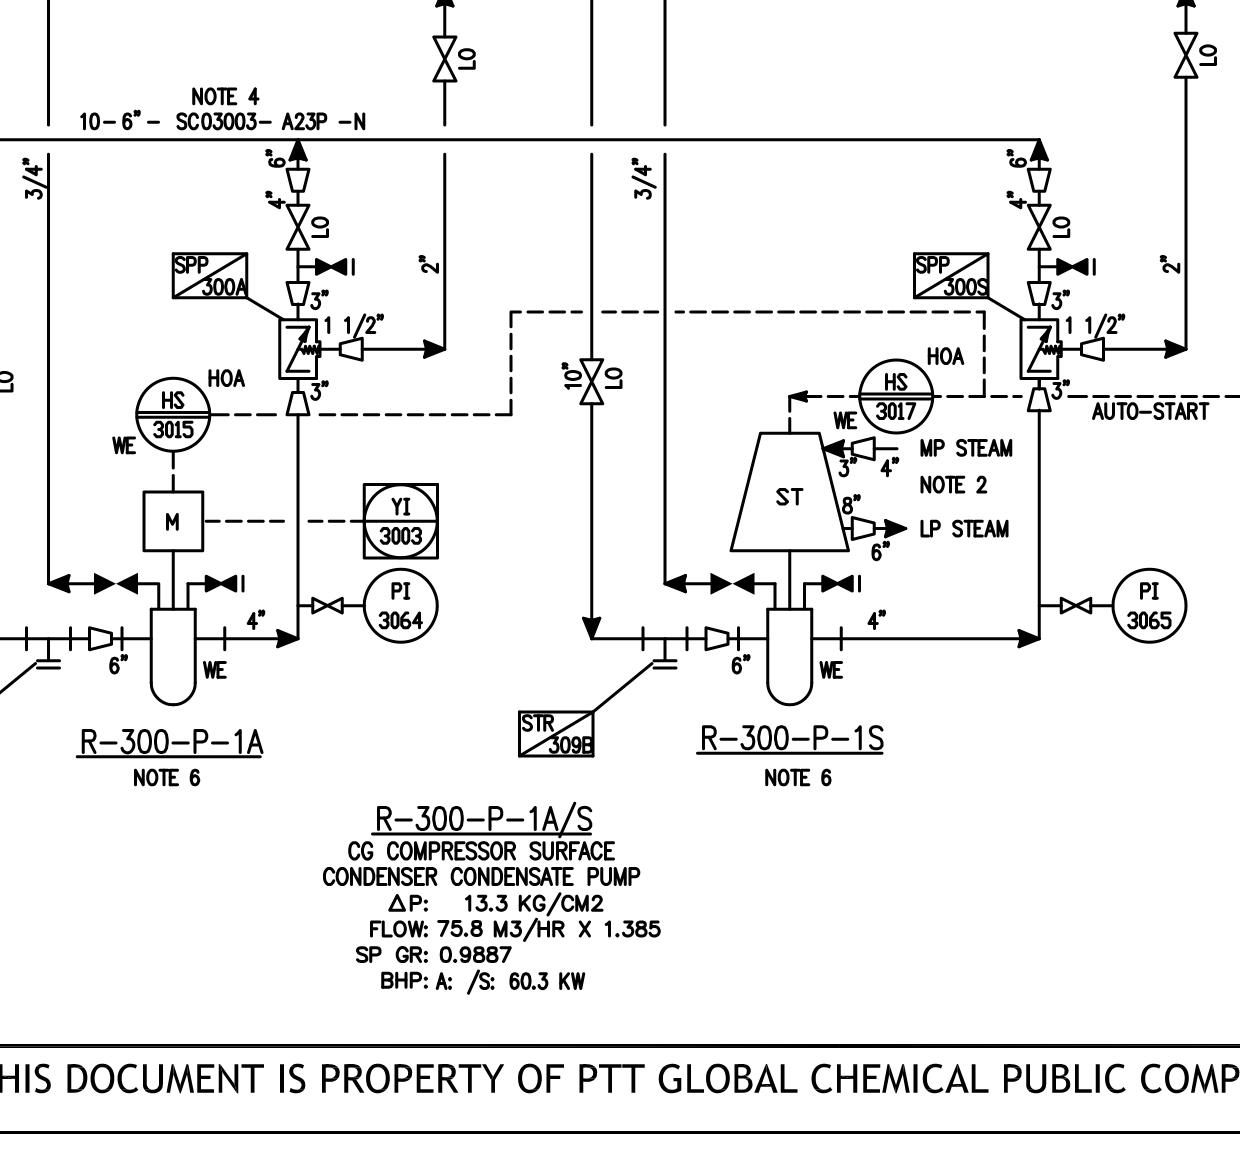Instrument Tag: (1108, 563, 1197, 650), (358, 564, 447, 652), (357, 477, 446, 564)
Line Number: (75, 105, 375, 134)
Reducer: (81, 619, 118, 655), (281, 164, 317, 200), (282, 276, 319, 312), (846, 432, 882, 468), (844, 510, 880, 546), (281, 387, 317, 423), (1021, 162, 1057, 198), (1023, 274, 1058, 310), (1076, 332, 1111, 368), (699, 619, 734, 655), (1023, 382, 1058, 417)
Valve: (282, 197, 317, 261), (1024, 194, 1059, 259), (1168, 24, 1203, 88), (429, 27, 463, 91), (1055, 589, 1099, 622), (306, 589, 349, 621)
